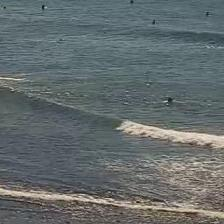surfer: (206, 11, 210, 16), (59, 38, 65, 41), (130, 0, 134, 4), (41, 4, 44, 9), (153, 20, 156, 24), (3, 6, 6, 9)
